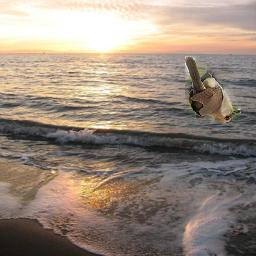Cuckoo: (185, 57, 241, 124)
